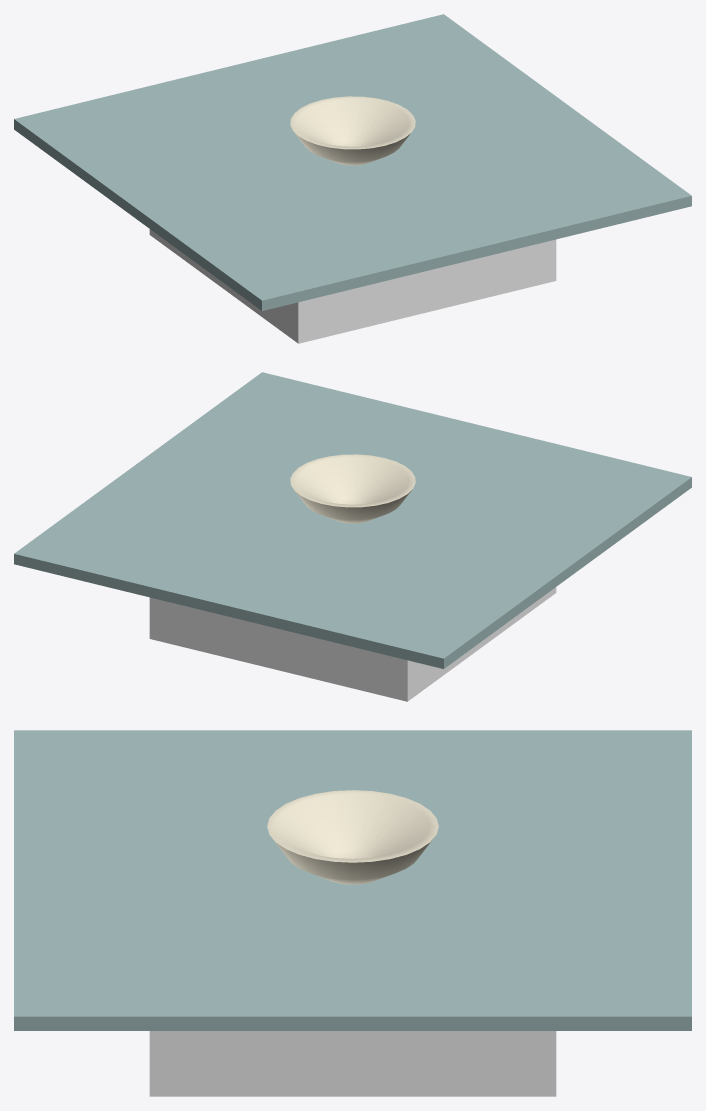
Rendered from KC32__AD_Int_Table_Coffee_Glass.glb.
3 renders of one model, top to bottom at view 1: azimuth 30°, elevation 25°; view 2: azimuth 150°, elevation 25°; view 3: azimuth 270°, elevation 25°, orthographic. The views are drawn at different scales.
Visible parts, largest first — view 1: KC32_VITRAGE__AD_Int_Table_Coffee_Glass, KC32_ACCENT__AD_Int_Table_Coffee_Glass, KC32_LUMIERE__AD_Int_Table_Coffee_Glass; view 2: KC32_VITRAGE__AD_Int_Table_Coffee_Glass, KC32_ACCENT__AD_Int_Table_Coffee_Glass, KC32_LUMIERE__AD_Int_Table_Coffee_Glass; view 3: KC32_VITRAGE__AD_Int_Table_Coffee_Glass, KC32_ACCENT__AD_Int_Table_Coffee_Glass, KC32_LUMIERE__AD_Int_Table_Coffee_Glass.
Boxes of the visible parts, <box> form: KC32_VITRAGE__AD_Int_Table_Coffee_Glass: <box>14,14,691,310</box>; KC32_ACCENT__AD_Int_Table_Coffee_Glass: <box>149,229,556,343</box>; KC32_LUMIERE__AD_Int_Table_Coffee_Glass: <box>290,96,415,165</box>; KC32_VITRAGE__AD_Int_Table_Coffee_Glass: <box>14,372,691,668</box>; KC32_ACCENT__AD_Int_Table_Coffee_Glass: <box>149,587,556,701</box>; KC32_LUMIERE__AD_Int_Table_Coffee_Glass: <box>290,454,415,523</box>; KC32_VITRAGE__AD_Int_Table_Coffee_Glass: <box>14,730,691,1030</box>; KC32_ACCENT__AD_Int_Table_Coffee_Glass: <box>149,1031,556,1096</box>; KC32_LUMIERE__AD_Int_Table_Coffee_Glass: <box>267,790,438,884</box>.
Size of the model in its own units: 1.5 by 0.45 by 1.5.
